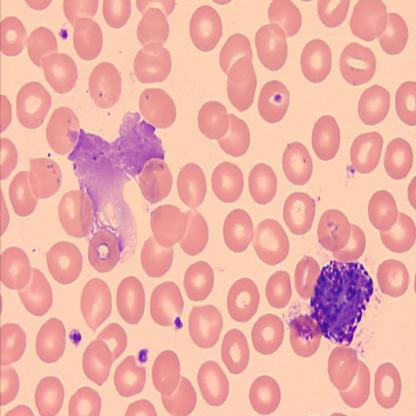Basophil: (310, 258, 374, 350)
